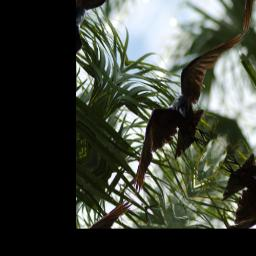Crow: (113, 8, 256, 215)
